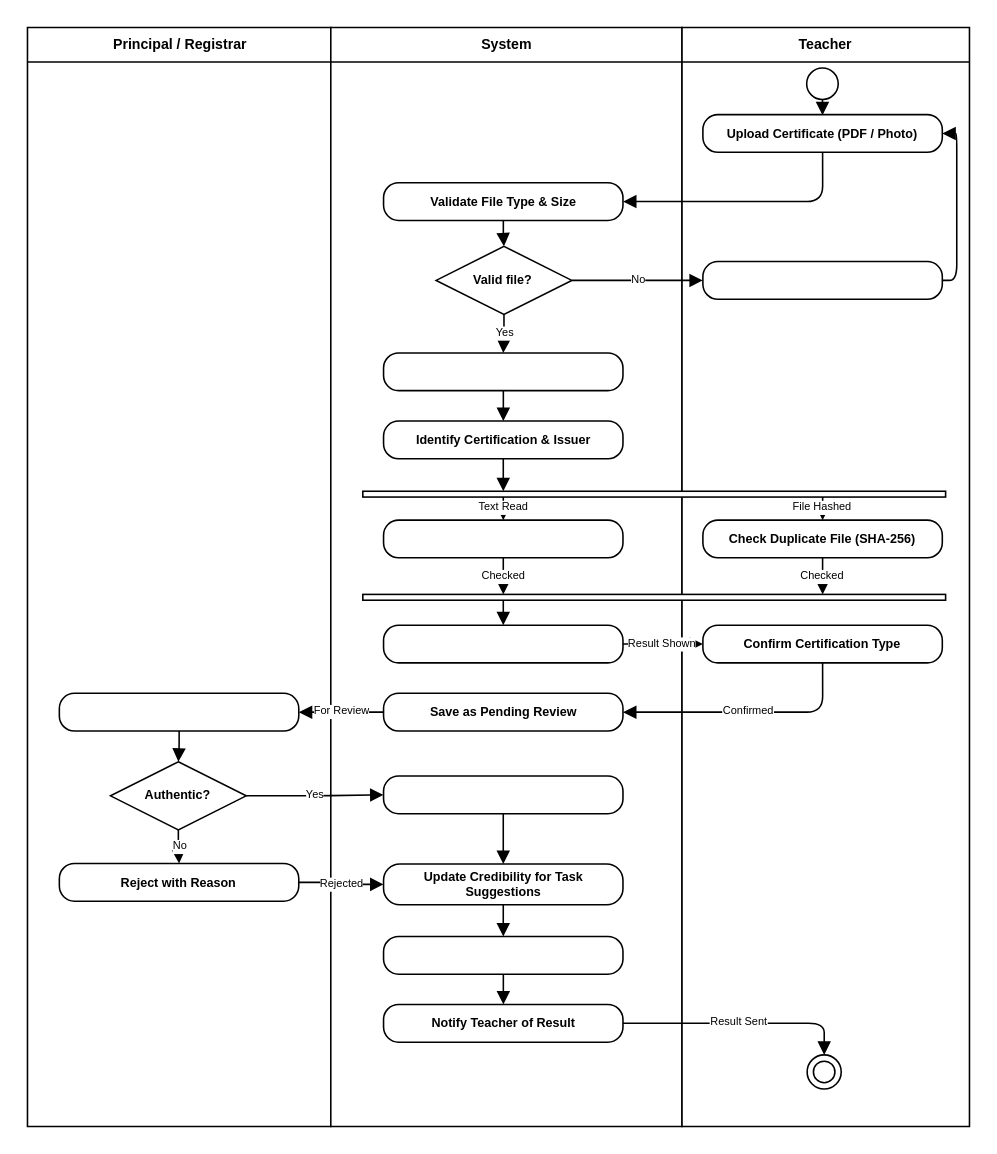
This 997x1154 diagram has some shape labels left out. The shapes that lost their labels are listed below. From the top down, each one's centre as x and y in pixels, then its label:
At [821,279]: "Choose Another File".
At [502,371]: "Extract Text (PDF Text / OCR)".
At [502,538]: "Match Name & Check Dates".
At [502,643]: "Compute Pre-validation Rating".
At [178,711]: "Review Certificate & Checks".
At [502,794]: "Mark as Verified".
At [502,954]: "Log Review in Audit Trail".
